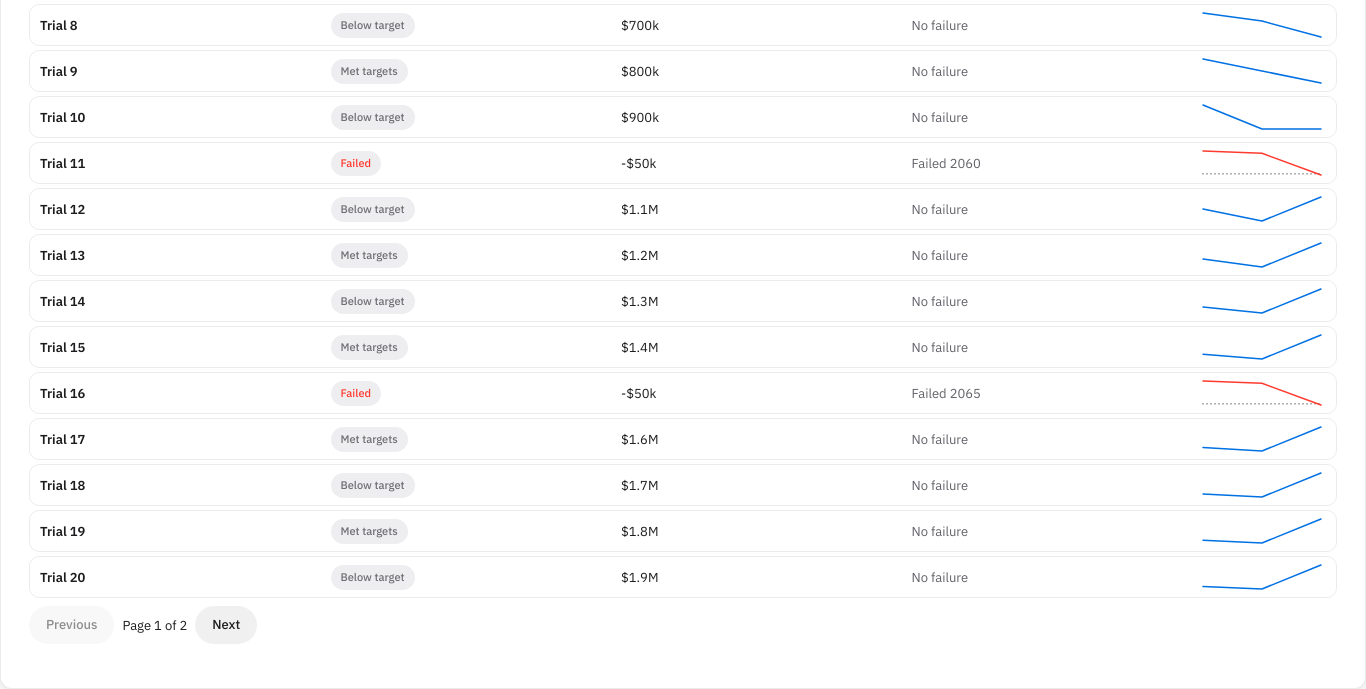
Test case: MonteCarloTrialExplorer › pages the list instead of rendering every trial
(page scrolled)
Click the button "Next": (226, 625) x1=195 y1=606 x2=257 y2=644
(page scrolled)
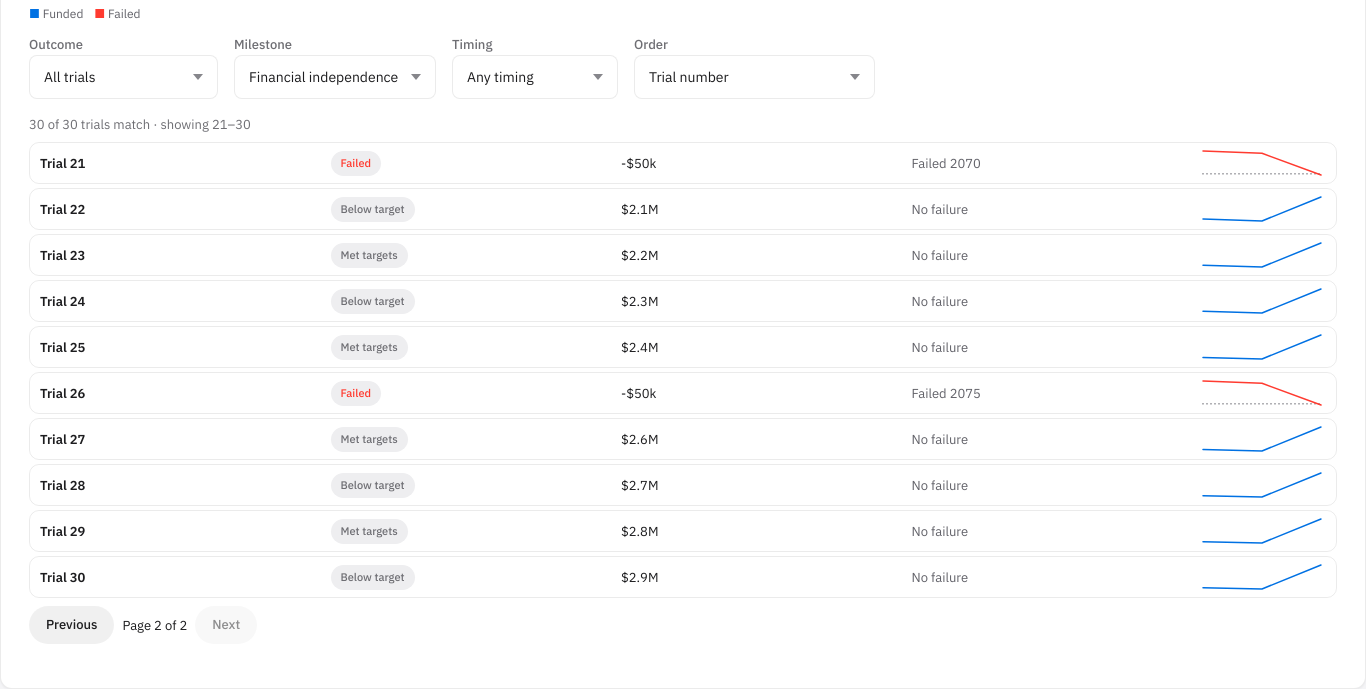
Result: the text "Trial 21" is shown at x1=40 y1=155 x2=85 y2=172
